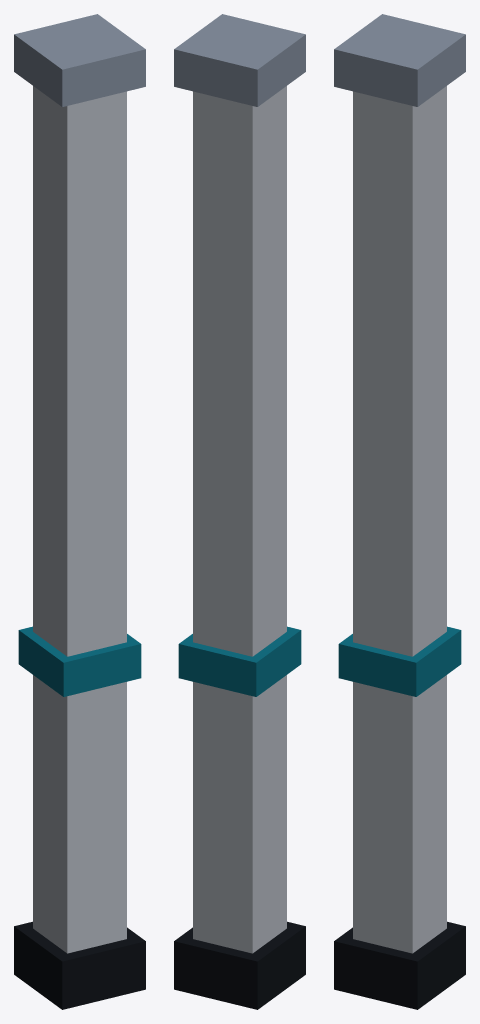
File: SM_Corner_Post.glb
3 views of the same model, side by side, from view 1: azimuth 30°, elevation 25°; view 2: azimuth 150°, elevation 25°; view 3: azimuth 330°, elevation 25° (orthographic).
Parts seen in each view (by area): view 1: SM_Corner_Post-col; view 2: SM_Corner_Post-col; view 3: SM_Corner_Post-col.
Boxes of the visible parts, x1=… form: SM_Corner_Post-col: x1=14, y1=14, x2=145, y2=1009; SM_Corner_Post-col: x1=174, y1=14, x2=305, y2=1009; SM_Corner_Post-col: x1=334, y1=14, x2=465, y2=1009.
Size of the model in its own units: 0.28 by 3.01 by 0.28.
